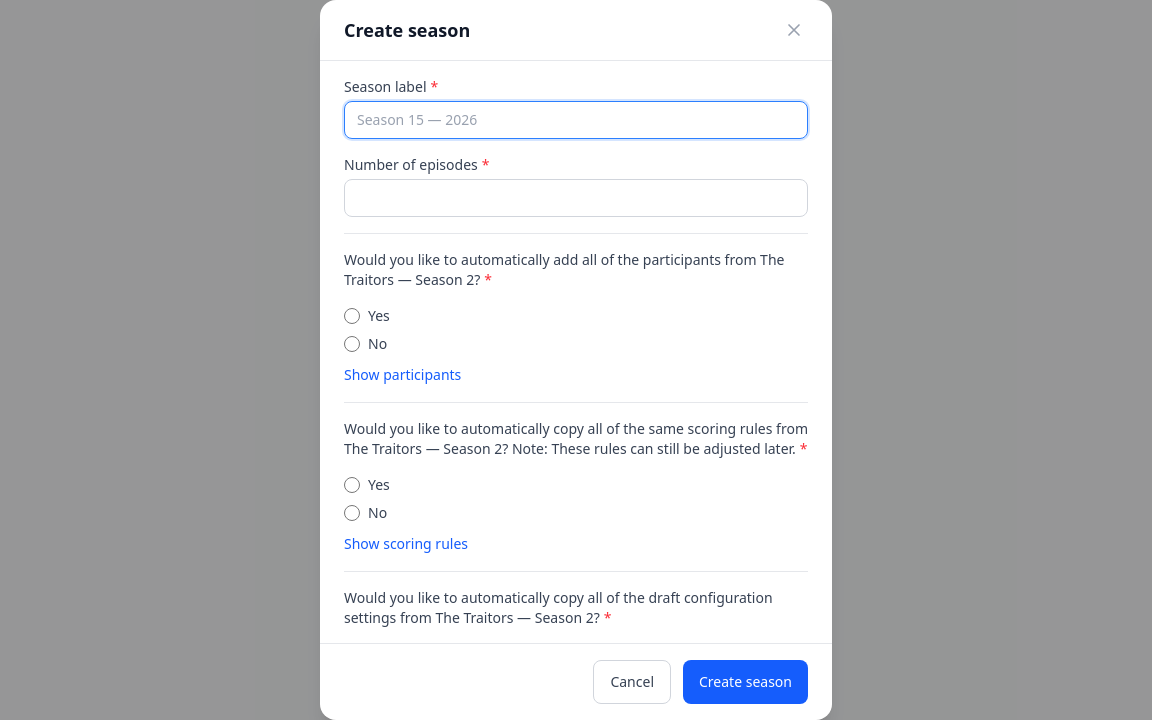
it: NewSeasonModal with a season to copy › shows and hides last season’s participants
Click the button "Show participants" at [403, 375], box top-left (344, 365), bottom-right (461, 385)
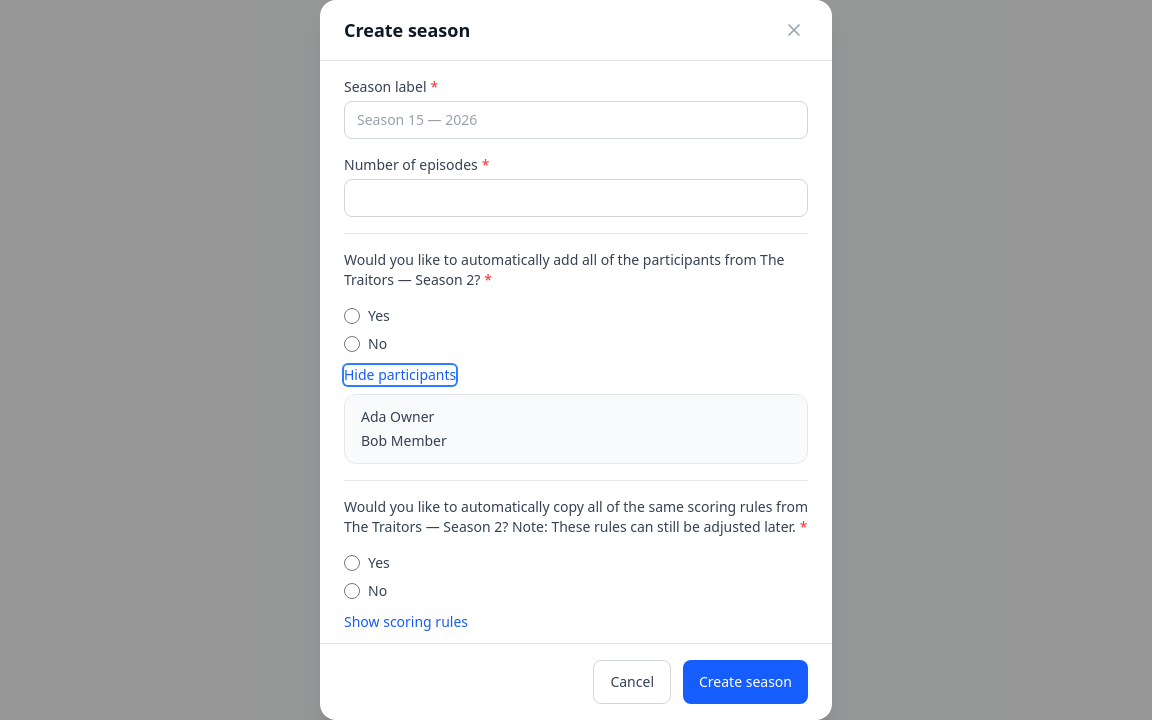
expect the button "Hide participants" is expanded: met
expect the list items read "Ada Owner", "Bob Member", in this order: met, box top-left (361, 407), bottom-right (434, 426); top-left (361, 431), bottom-right (447, 450)
Click the button "Hide participants" at [400, 375], box top-left (344, 365), bottom-right (456, 385)
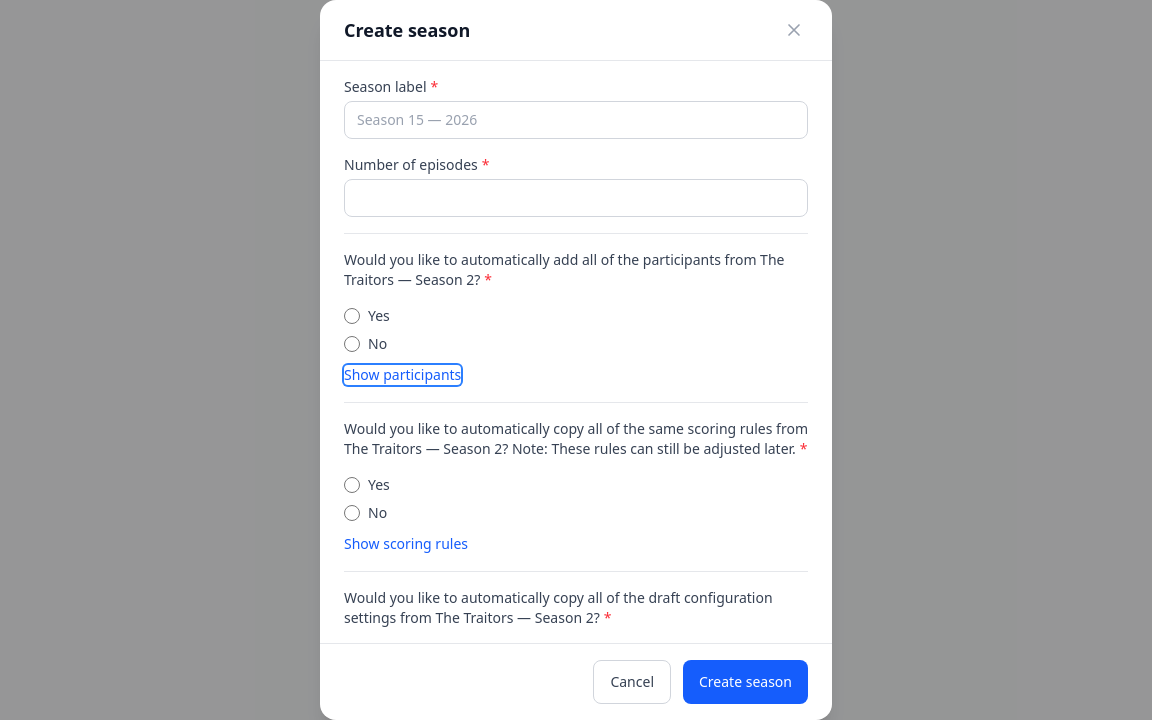
expect the button "Show participants" is collapsed: met, box top-left (344, 365), bottom-right (461, 385)
